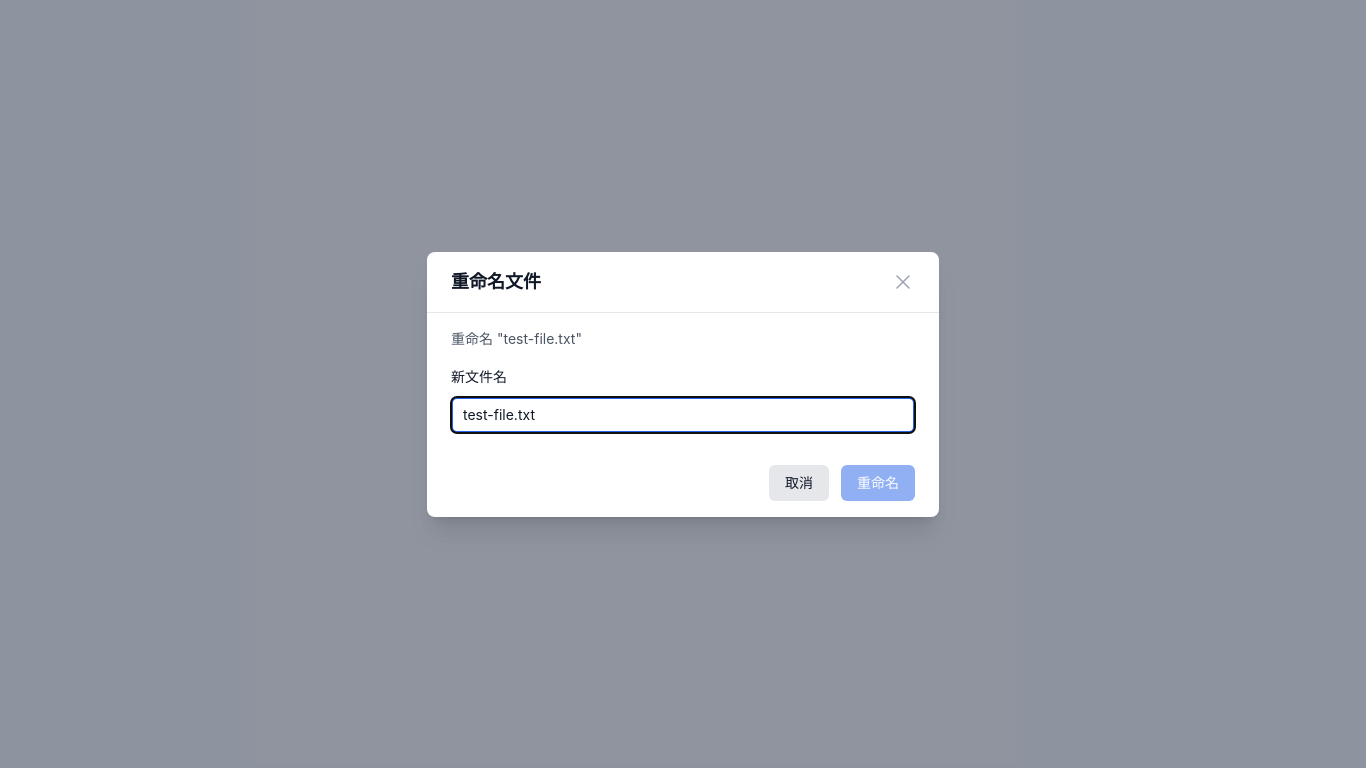
it: RenameModal › should show error for invalid file names
Replace the text in the field showing "test-file.txt" with "invalid<name.txt" at (683, 414), box 451,396 -> 915,432
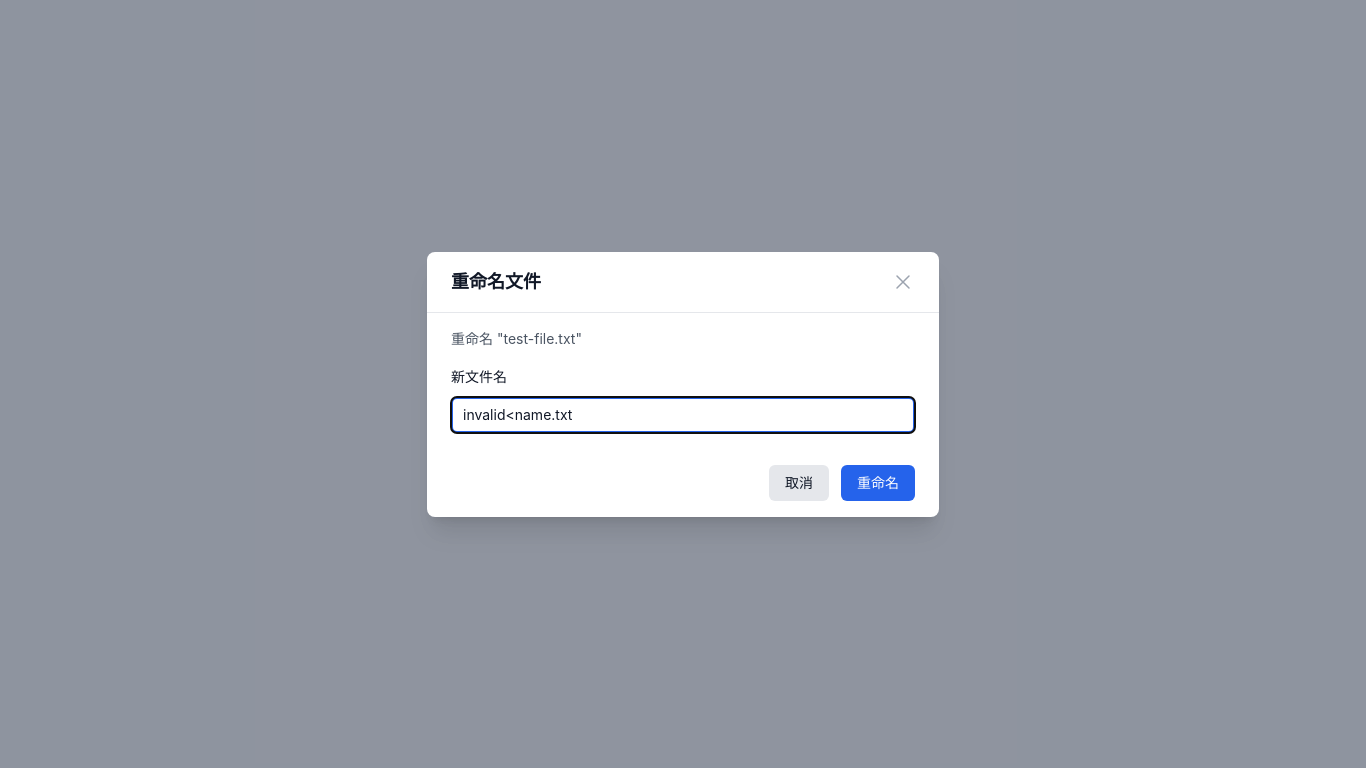
Click the button "重命名" at (878, 482), box 841,464 -> 915,500
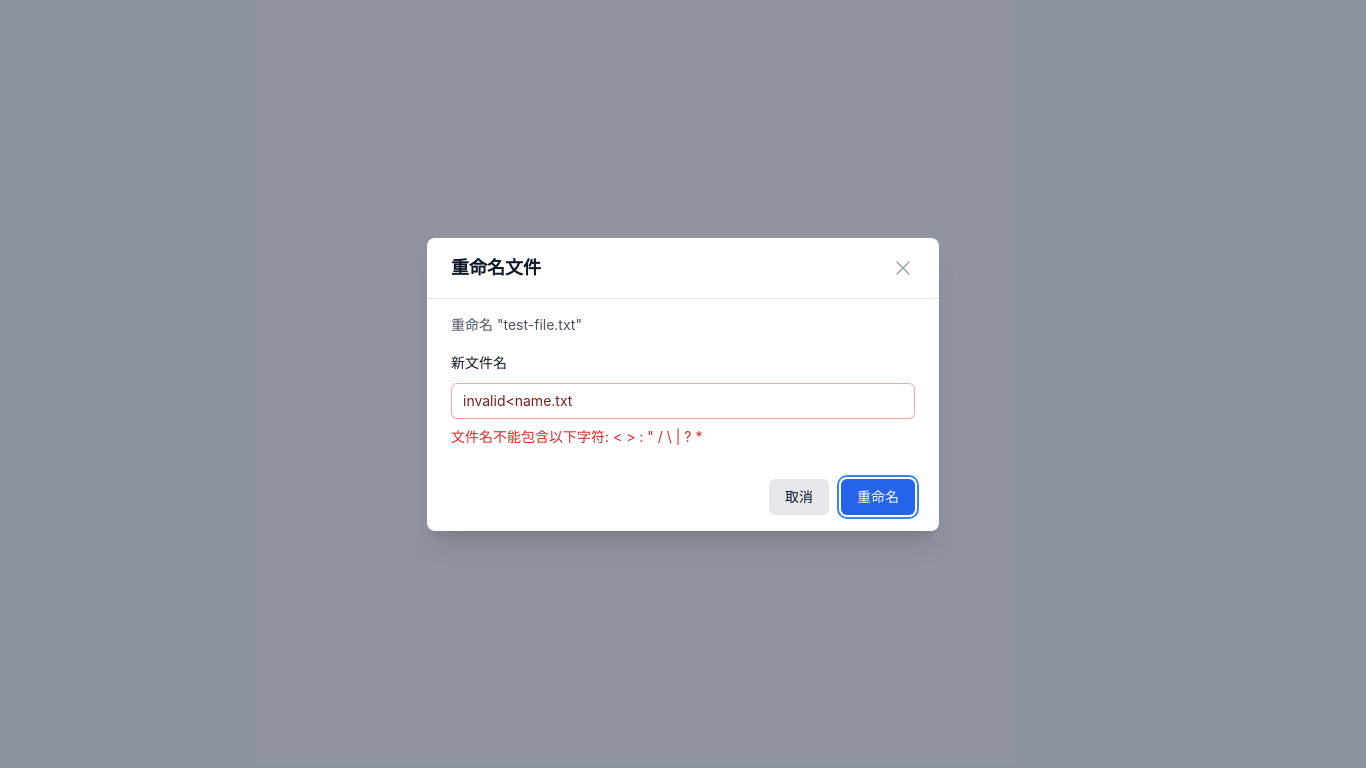
Now the text "文件名不能包含以下字符: < > : \" / \\ | ? *" is shown, box 451,428 -> 702,444
